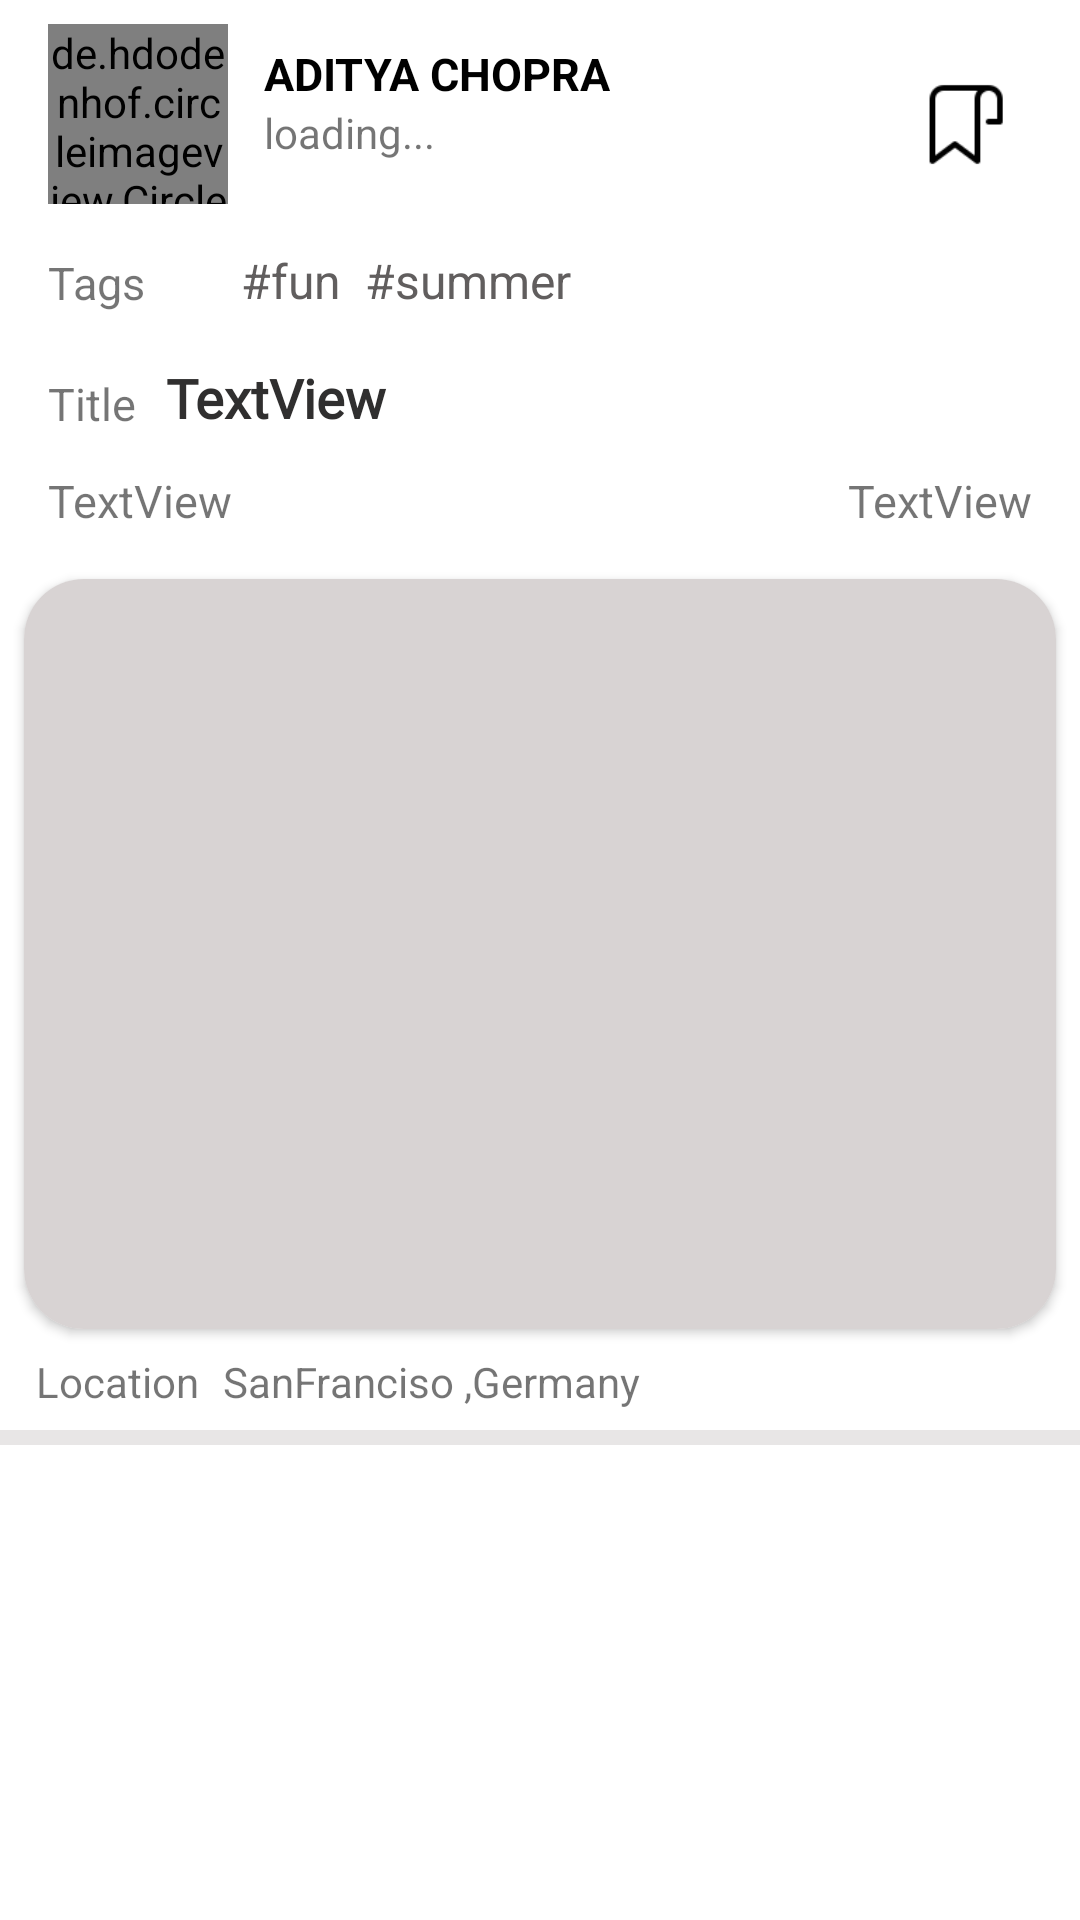

Screen size 1080 x 1920. Icon name, then its center in pixels as [x,y]:
bookmarkwhite: [966,124]
